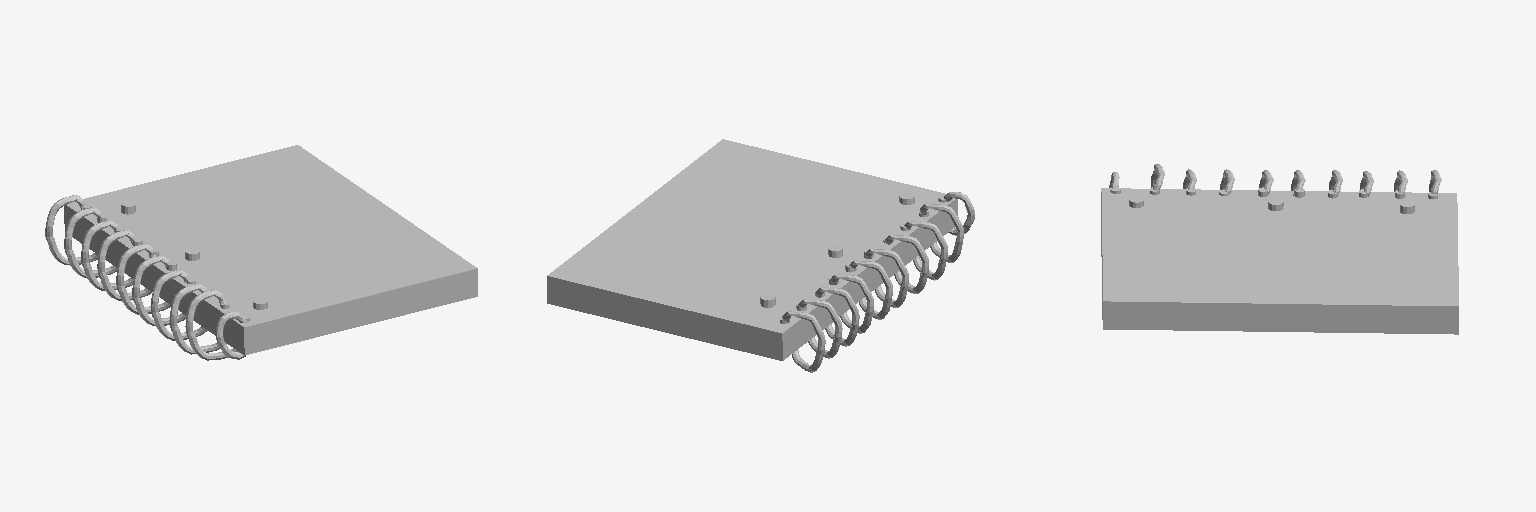
3 renders of one model, left to right at view 1: azimuth 30°, elevation 25°; view 2: azimuth 150°, elevation 25°; view 3: azimuth 270°, elevation 25°, orthographic.
Parts seen in each view (by area): view 1: group[number redacted]; view 2: group[number redacted]; view 3: group[number redacted].
Boxes of the visible parts, box(x1,y1,x2,y2) form: group[number redacted]: box(45, 145, 477, 360); group[number redacted]: box(547, 139, 974, 372); group[number redacted]: box(1101, 164, 1458, 334).
Bounding box in the file's own units: 0.3987 × 0.0987 × 0.463.